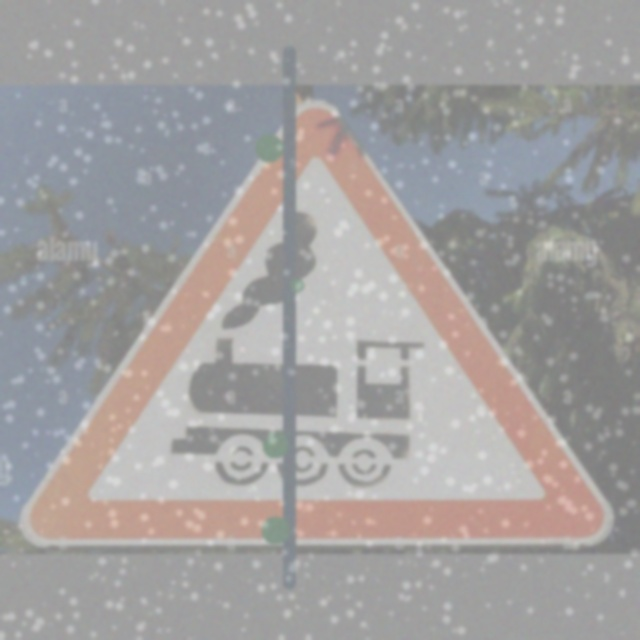Unguarded_Level_Crossing: (71, 128, 549, 536)
